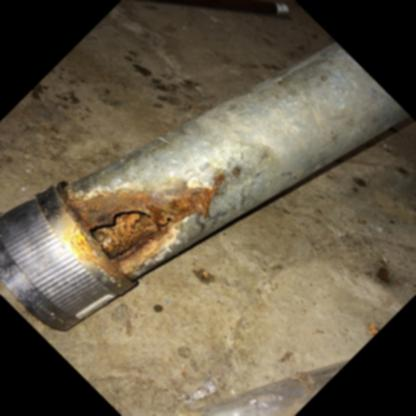burst: (90, 194, 177, 269)
